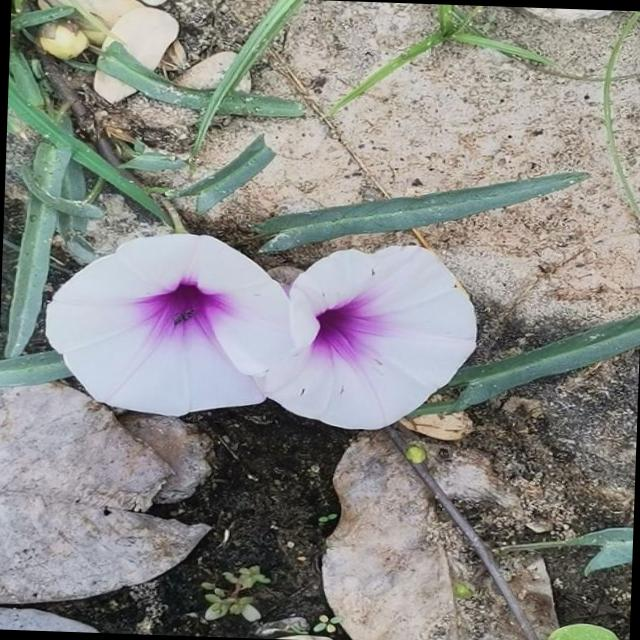ipomoea: (38, 225, 299, 423), (255, 236, 484, 436)
